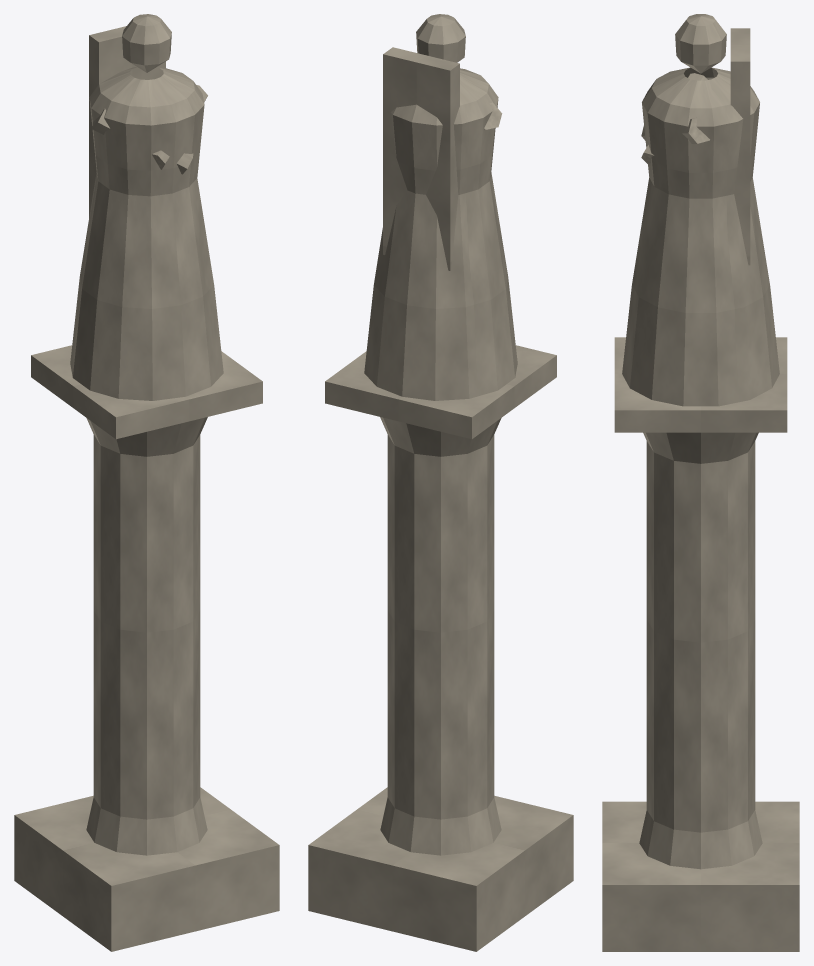
Rendered from Statue_Garden_1.gltf.
3 views of the same model, side by side, from view 1: azimuth 30°, elevation 25°; view 2: azimuth 150°, elevation 25°; view 3: azimuth 270°, elevation 25° (orthographic).
Parts seen in each view (by area): view 1: Statue_Garden_1; view 2: Statue_Garden_1; view 3: Statue_Garden_1.
Boxes of the visible parts, x1=… form: Statue_Garden_1: x1=14, y1=14, x2=279, y2=951; Statue_Garden_1: x1=308, y1=14, x2=573, y2=951; Statue_Garden_1: x1=602, y1=14, x2=799, y2=951.
Bounding box in the file's own units: 0.8 × 4 × 0.8.
Materials: 1 (1 with a texture image).
